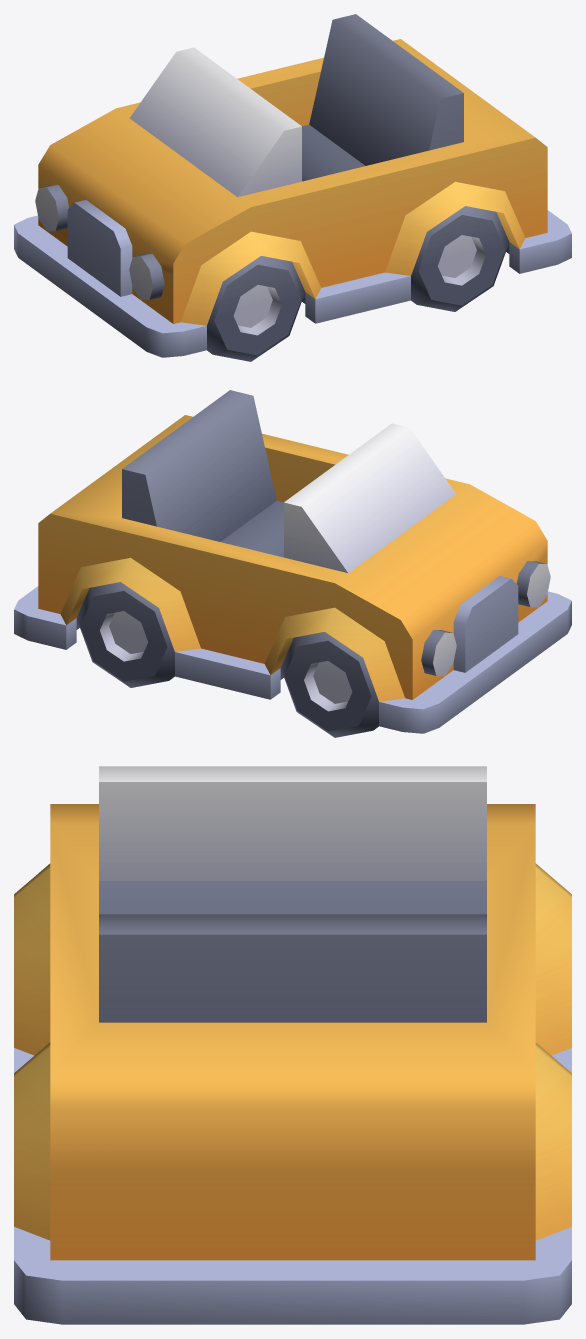
Rendered from vehicle-convertible.fbx.
The picture shows the model from 3 angles, top to bottom: view 1: azimuth 30°, elevation 25°; view 2: azimuth 150°, elevation 25°; view 3: azimuth 270°, elevation 25°; orthographic projection. The views are drawn at different scales.
Visible parts, largest first — view 1: body, wheel-back-left, wheel-front-left; view 2: body, wheel-back-right, wheel-front-right; view 3: body.
Boxes of the visible parts, bbox=[...] form: body: bbox=[14, 14, 571, 357]; wheel-back-left: bbox=[411, 206, 509, 311]; wheel-front-left: bbox=[207, 256, 304, 361]; body: bbox=[14, 390, 571, 733]; wheel-back-right: bbox=[76, 582, 174, 687]; wheel-front-right: bbox=[281, 632, 378, 737]; body: bbox=[14, 766, 571, 1324].
Size of the model in its own units: 142 by 67.7 by 90.85.
